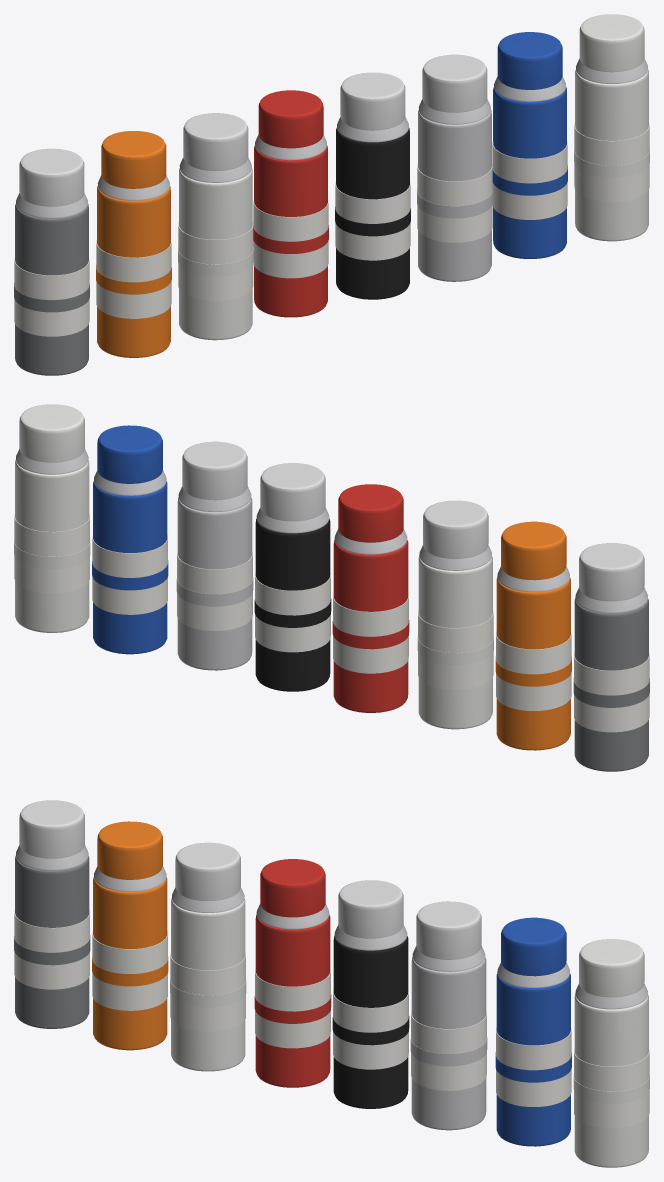
File: spray_can_row_b.glb
3 renders of one model, top to bottom at view 1: azimuth 30°, elevation 25°; view 2: azimuth 150°, elevation 25°; view 3: azimuth 330°, elevation 25°, orthographic.
Visible parts, largest first — view 1: SM_spray_can_row_b; view 2: SM_spray_can_row_b; view 3: SM_spray_can_row_b.
Part boxes in pixels (x1,y1,x2,y2): SM_spray_can_row_b: [14, 14, 649, 375]; SM_spray_can_row_b: [14, 404, 649, 771]; SM_spray_can_row_b: [14, 800, 649, 1167].
Size of the model in its own units: 0.6418 by 0.1975 by 0.0758.
